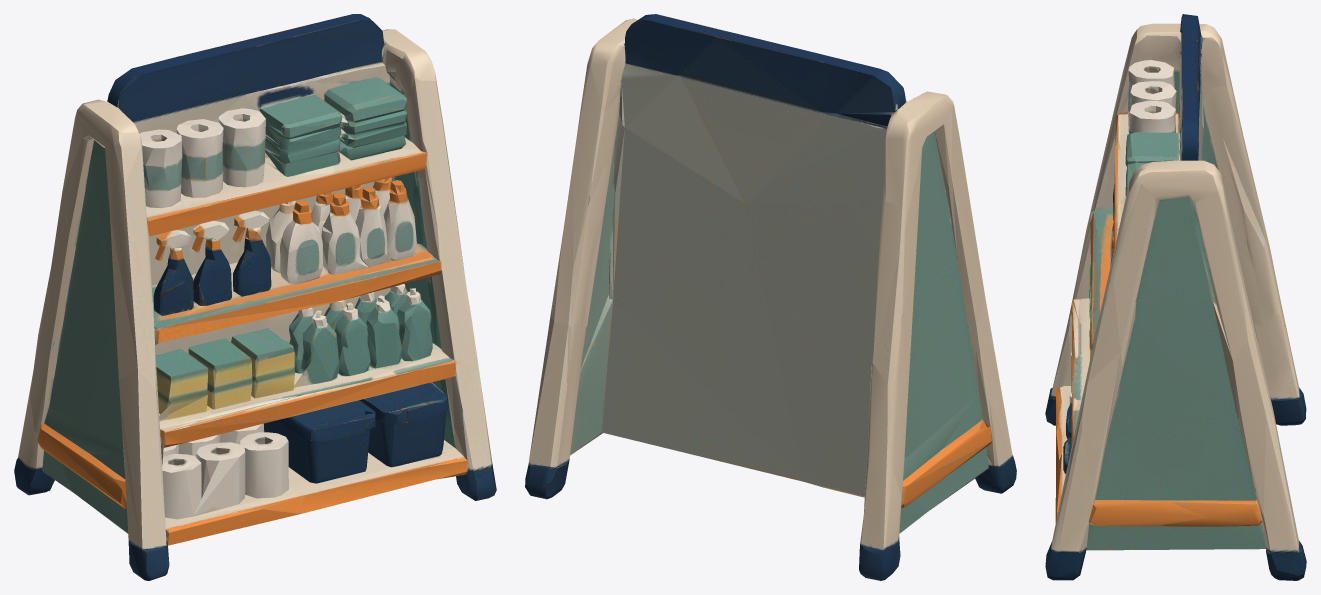
File: goodsGondola.glb
3 views of the same model, side by side, from view 1: azimuth 30°, elevation 25°; view 2: azimuth 150°, elevation 25°; view 3: azimuth 270°, elevation 25° (orthographic). The views are drawn at different scales.
Parts seen in each view (by area): view 1: Mesh_0; view 2: Mesh_0; view 3: Mesh_0.
Part boxes in pixels (x1,y1,x2,y2): Mesh_0: (14, 14, 496, 580); Mesh_0: (525, 14, 1016, 580); Mesh_0: (1045, 14, 1306, 580).
Bounding box in the file's own units: 1.14 × 1.36 × 0.75.
1 material, 1 textured.
